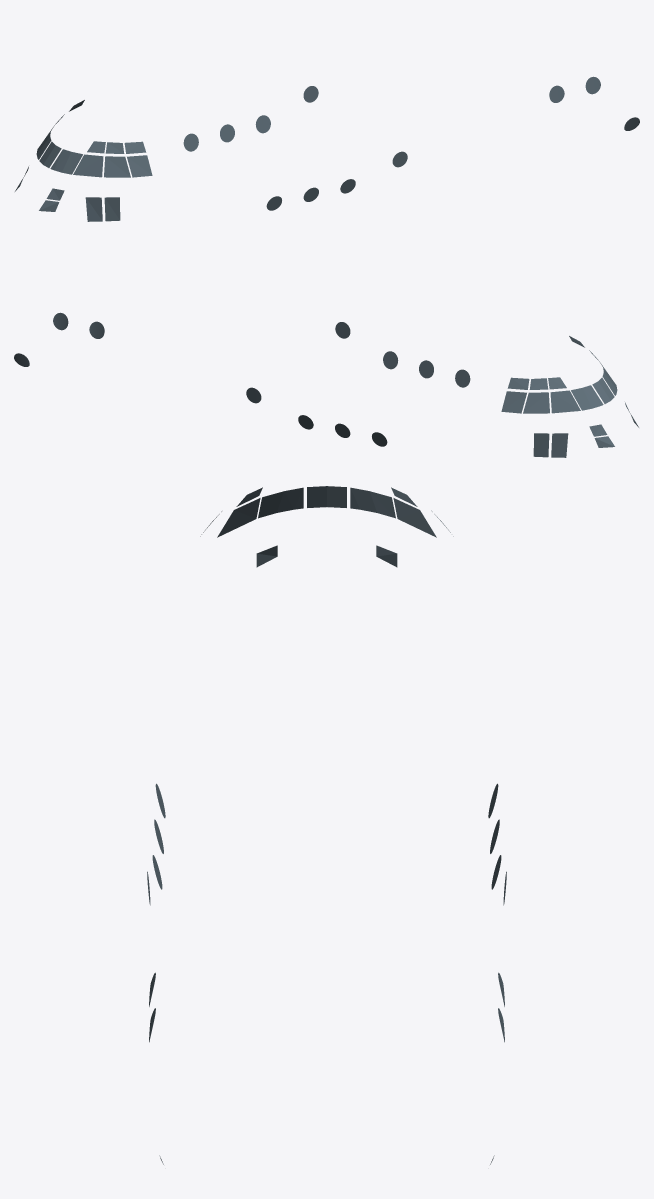
File: c130.glass.glb
The picture shows the model from 3 angles, top to bottom: view 1: azimuth 30°, elevation 25°; view 2: azimuth 150°, elevation 25°; view 3: azimuth 270°, elevation 25°; orthographic projection. The views are drawn at different scales.
Parts seen in each view (by area): view 1: glass; view 2: glass; view 3: glass.
Boxes of the visible parts, box(x1,y1,x2,y2) form: glass: box(15, 76, 639, 221); glass: box(14, 312, 638, 457); glass: box(147, 486, 506, 1164).
Bounding box in the file's own units: 15.8 × 2.58 × 4.3.
